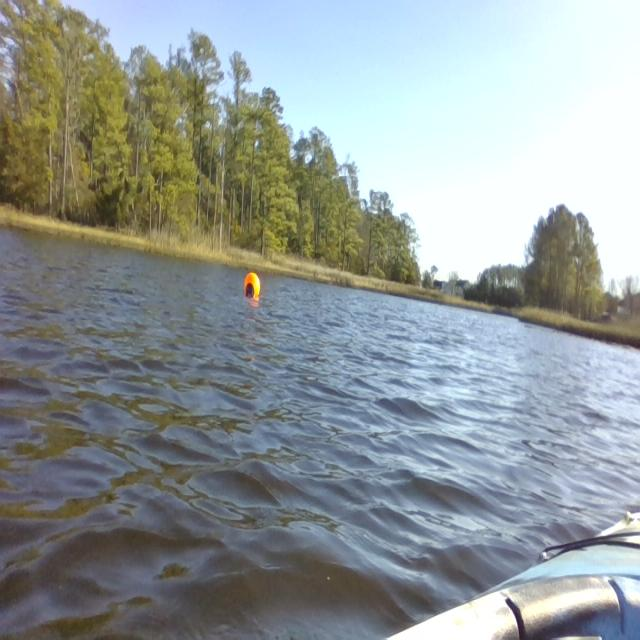Buoy: (241, 270, 265, 302)
